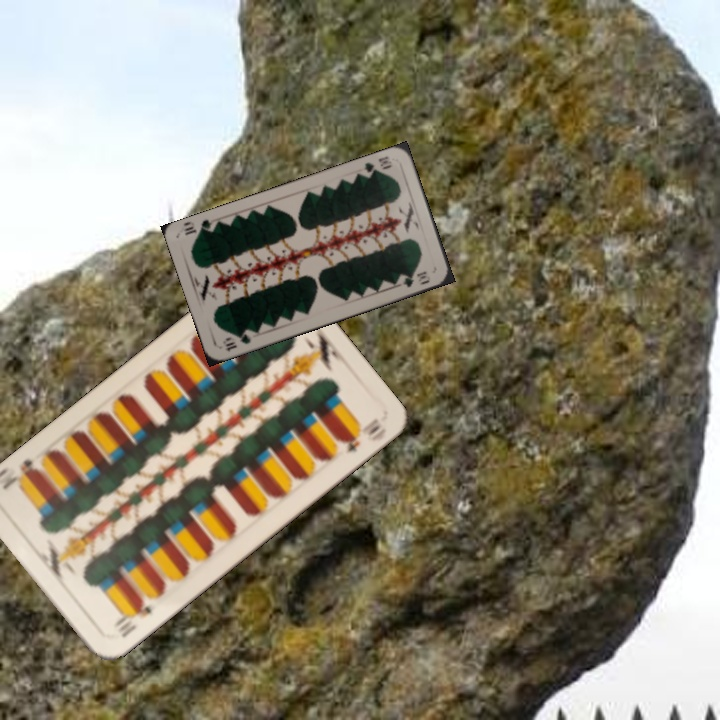E10: (110, 596, 154, 641)
G10: (358, 152, 394, 179), (218, 328, 254, 355)
